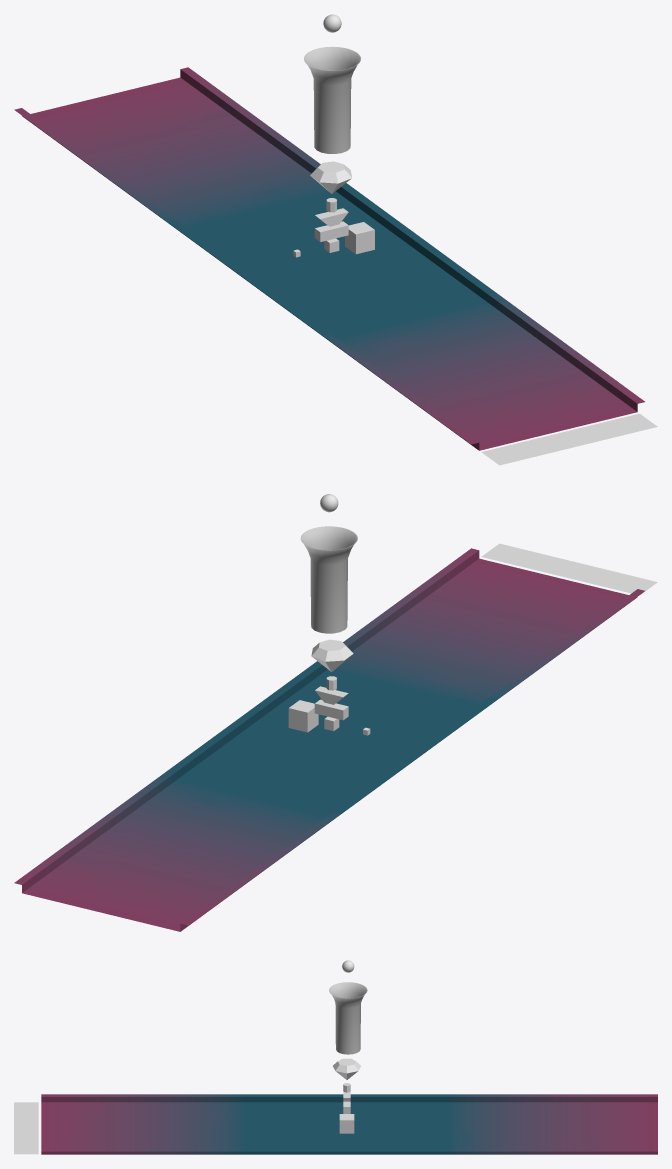
The model's file is MainModels.fbx.
The picture shows the model from 3 angles, top to bottom: view 1: azimuth 30°, elevation 25°; view 2: azimuth 150°, elevation 25°; view 3: azimuth 270°, elevation 25°; orthographic projection. The views are drawn at different scales.
Visible parts, largest first — view 1: Ground, Hole, Finish, Crystal, Cube.001; view 2: Ground, Hole, Finish, Crystal, Cube.001; view 3: Ground, Hole, Finish, Crystal, Cube.001.
Part boxes in pixels (bbox=[...]): Ground: bbox=[14, 67, 644, 450]; Hole: bbox=[304, 46, 360, 153]; Finish: bbox=[481, 413, 657, 465]; Crystal: bbox=[310, 161, 351, 193]; Cube.001: bbox=[345, 222, 374, 254]; Ground: bbox=[14, 548, 644, 931]; Hole: bbox=[300, 526, 357, 633]; Finish: bbox=[481, 543, 657, 595]; Crystal: bbox=[311, 639, 353, 671]; Cube.001: bbox=[288, 700, 318, 732]; Ground: bbox=[41, 1094, 657, 1154]; Hole: bbox=[329, 982, 367, 1054]; Finish: bbox=[14, 1102, 38, 1154]; Crystal: bbox=[333, 1058, 360, 1079]; Cube.001: bbox=[339, 1114, 354, 1133].
Size of the model in its own units: 11.01 by 15.04 by 52.22.
